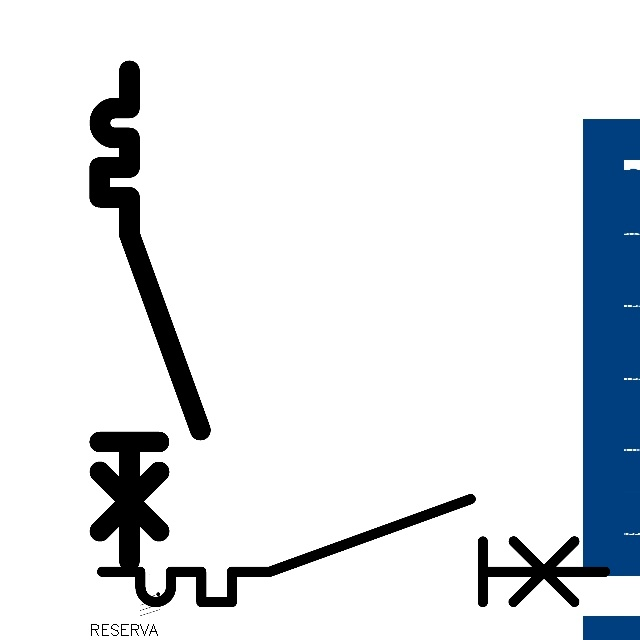interruptor_termomagnetico: (89, 486, 618, 615), (87, 58, 213, 573)
